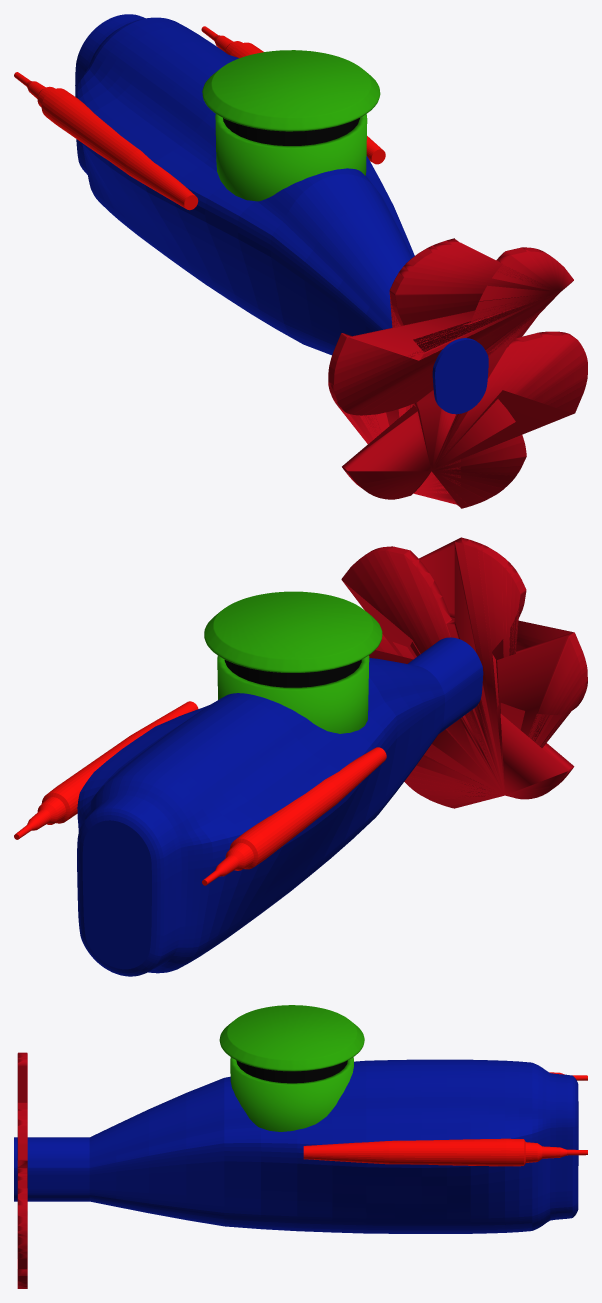
File: BLUE FASE 2.fbx
The picture shows the model from 3 angles, top to bottom: view 1: azimuth 30°, elevation 25°; view 2: azimuth 150°, elevation 25°; view 3: azimuth 270°, elevation 25°; orthographic projection. The views are drawn at different scales.
Parts seen in each view (by area): view 1: BLUE FASE 2; view 2: BLUE FASE 2; view 3: BLUE FASE 2.
Part boxes in pixels (x1,y1,x2,y2): BLUE FASE 2: [14, 14, 587, 508]; BLUE FASE 2: [14, 537, 587, 976]; BLUE FASE 2: [14, 1005, 587, 1288].
Size of the model in its own units: 1026 by 486 by 427.
